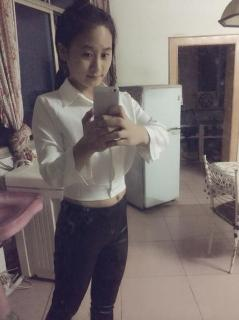long sleeve top: (32, 78, 170, 201)
trousers: (45, 192, 129, 319)
